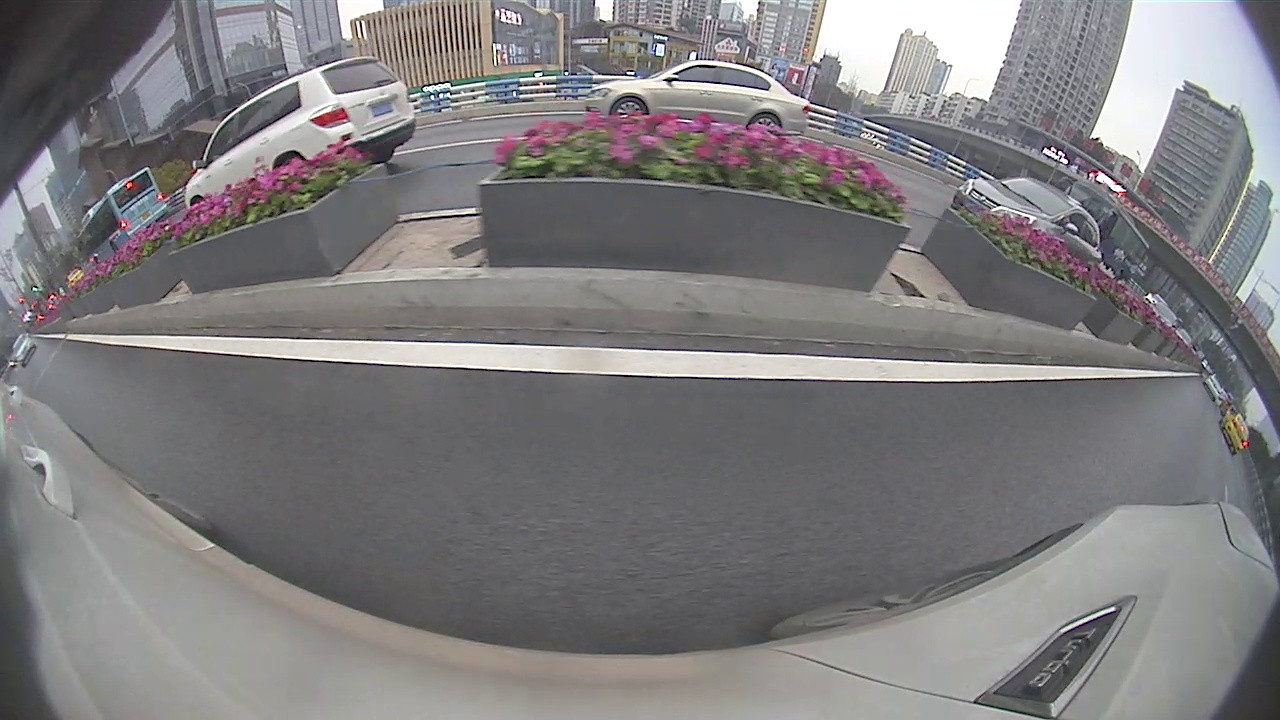car: (581, 60, 810, 132), (1218, 410, 1250, 457)
front: (609, 92, 652, 118)
rear: (747, 112, 786, 133)
